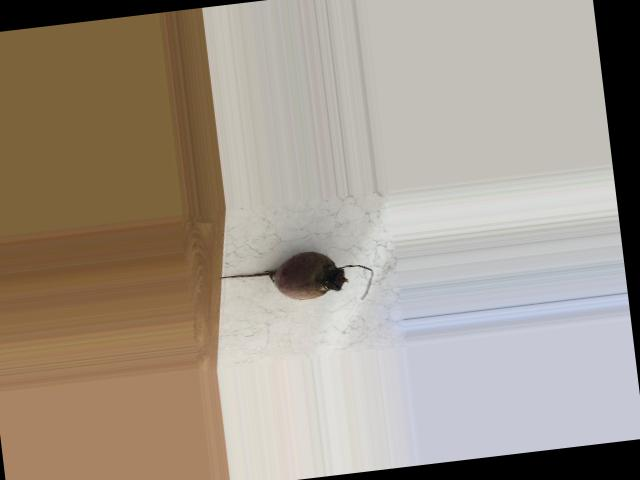beet: (216, 244, 375, 315)
